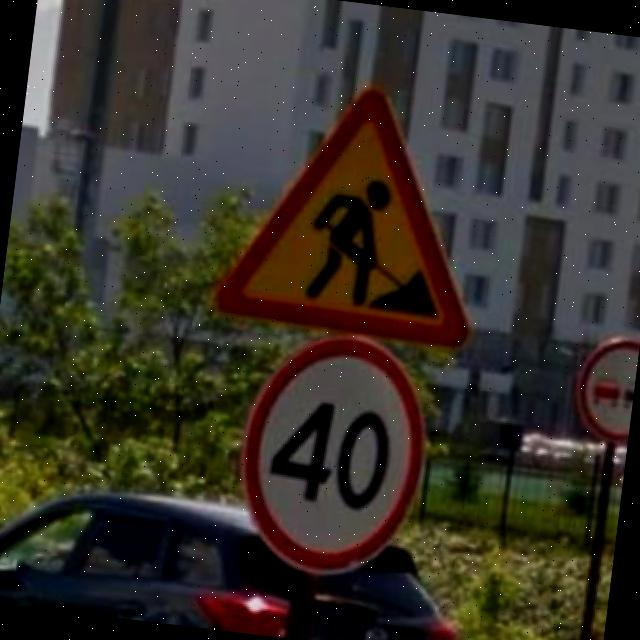Ograniczenie predkosci do 40: (227, 324, 438, 586)
